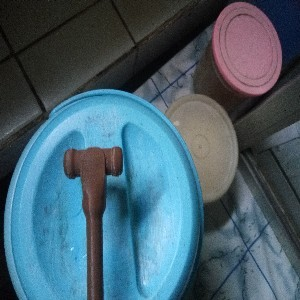palu: (63, 145, 124, 300)
